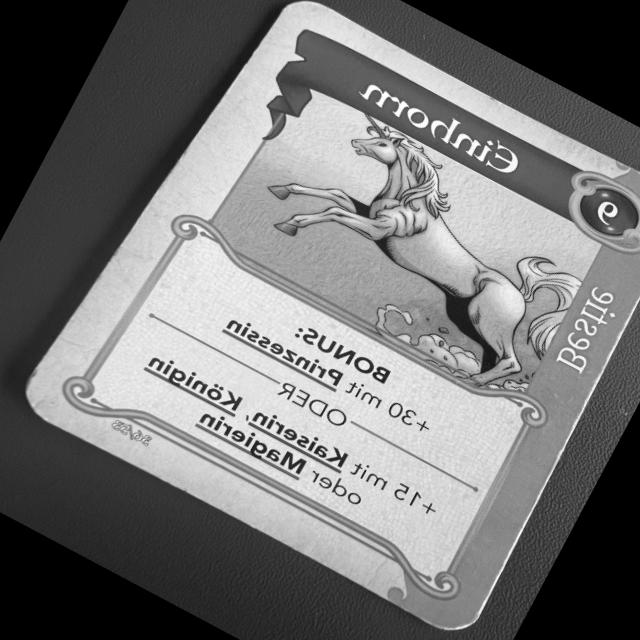Unicorn: (3, 0, 640, 640)
